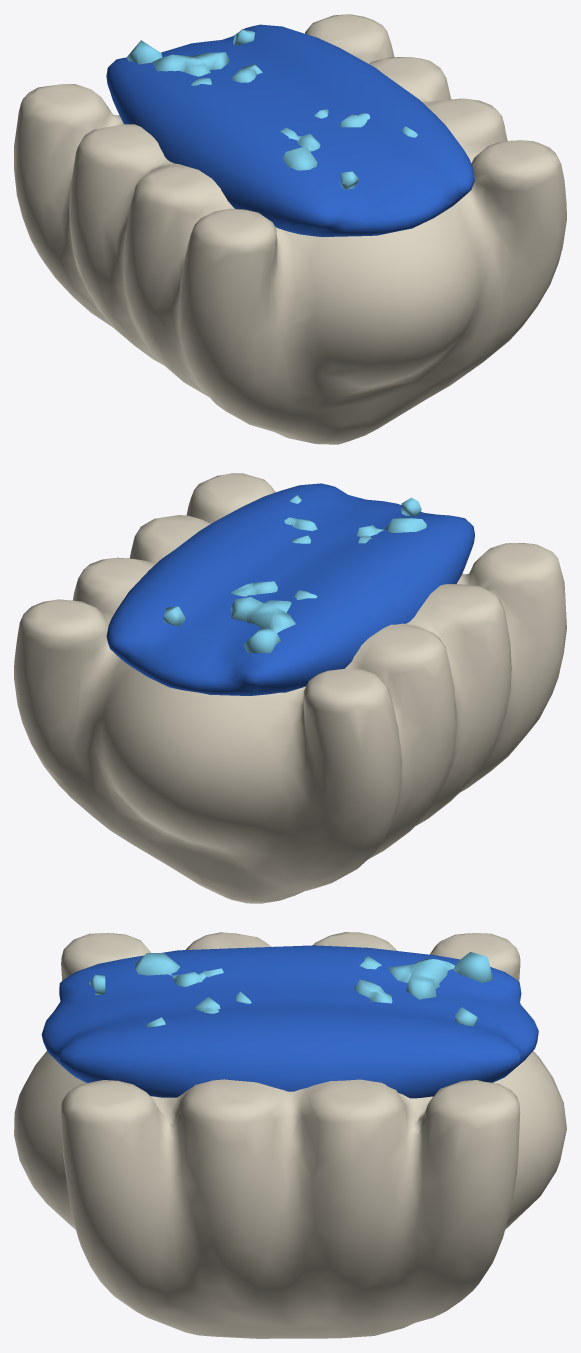
Rendered from clam.glb.
The picture shows the model from 3 angles, top to bottom: view 1: azimuth 30°, elevation 25°; view 2: azimuth 150°, elevation 25°; view 3: azimuth 270°, elevation 25°; orthographic projection. The views are drawn at different scales.
Parts seen in each view (by area): view 1: valves, mantle, spots; view 2: valves, mantle, spots; view 3: valves, mantle, spots.
Part boxes in pixels (left/top/right/bottom): valves: left=14, top=14, right=566, bottom=444; mantle: left=106, top=24, right=474, bottom=237; spots: left=126, top=29, right=417, bottom=189; valves: left=14, top=473, right=566, bottom=903; mantle: left=106, top=483, right=474, bottom=695; spots: left=163, top=494, right=426, bottom=653; valves: left=14, top=932, right=566, bottom=1338; mantle: left=41, top=945, right=538, bottom=1098; spots: left=89, top=952, right=492, bottom=1027.
Bounding box in the file's own units: 0.5022 × 0.4109 × 0.5994.
